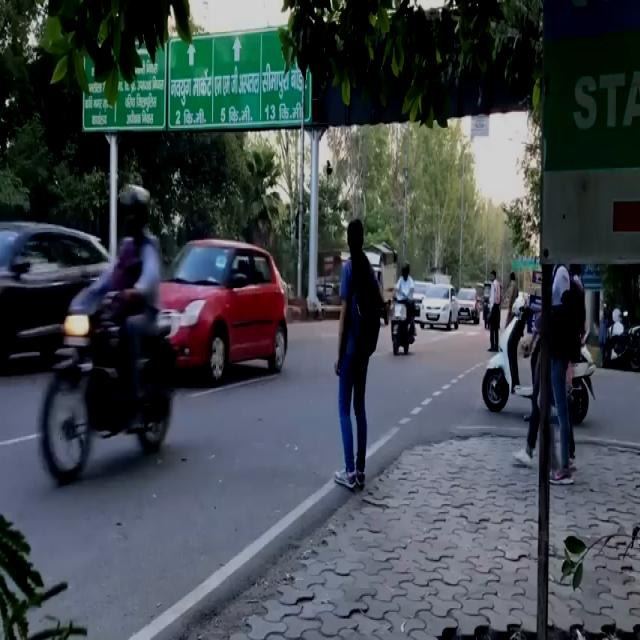MOTORCYCLE: (41, 298, 172, 467), (392, 294, 418, 357)
SED: (154, 235, 290, 377)
